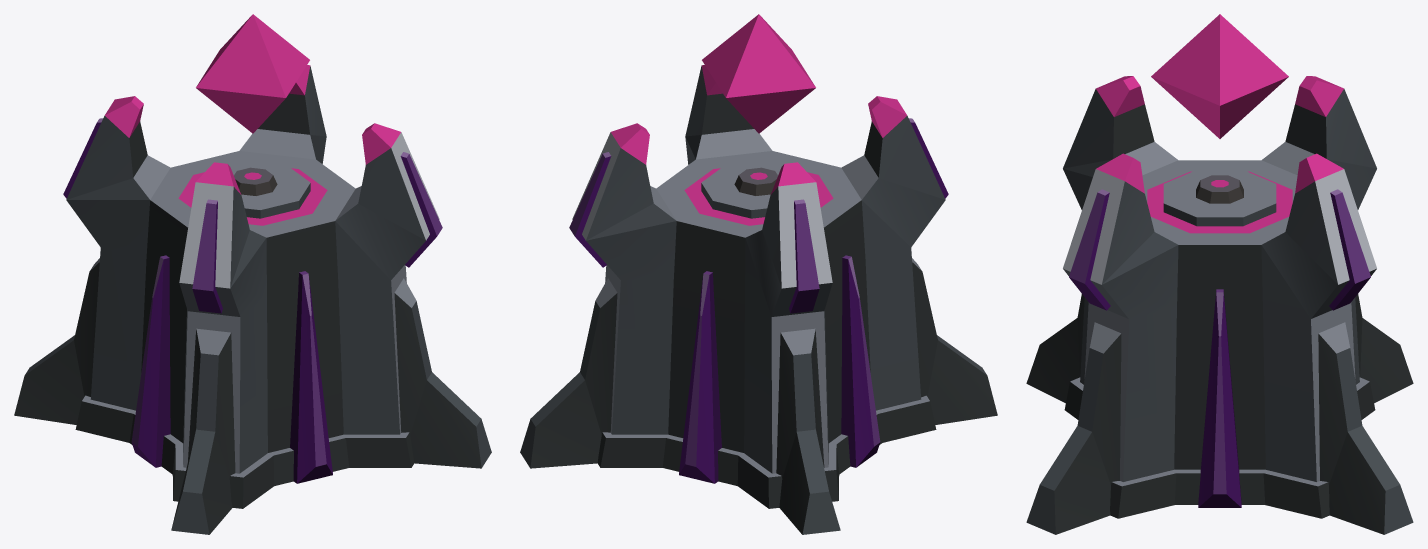
Rendered from MageTower_Lv4B.obj.
3 views of the same model, side by side, from view 1: azimuth 30°, elevation 25°; view 2: azimuth 150°, elevation 25°; view 3: azimuth 270°, elevation 25° (orthographic). The views are drawn at different scales.
Parts seen in each view (by area): view 1: MageTower_Lv4B; view 2: MageTower_Lv4B; view 3: MageTower_Lv4B.
Boxes of the visible parts, x1=… form: MageTower_Lv4B: x1=14, y1=14, x2=491, y2=534; MageTower_Lv4B: x1=520, y1=14, x2=997, y2=534; MageTower_Lv4B: x1=1026, y1=14, x2=1413, y2=534.
Bounding box in the file's own units: 9.32 × 11.67 × 9.32.
Materials: 1 (1 with a texture image).
